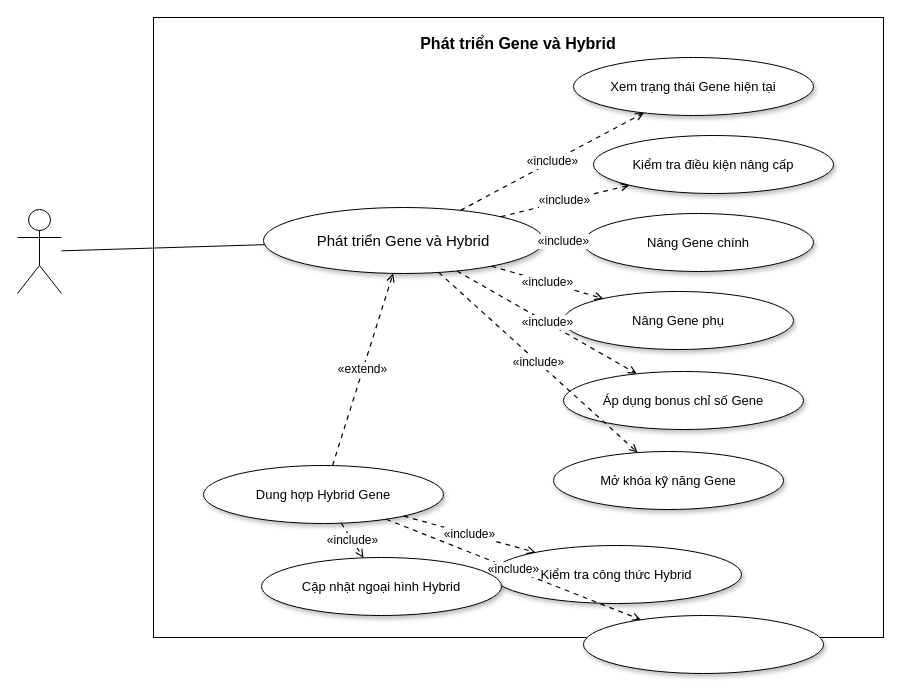
Some shapes in this 901 by 698 pixel diagram are drawn without their labels. The shapes that lost their labels are listed below. From the top down, each one's centre as x and y in pixels, then its label:
At [39,251]: "Người chơi".
At [704,645]: "Kích hoạt kỹ năng Hybrid".
